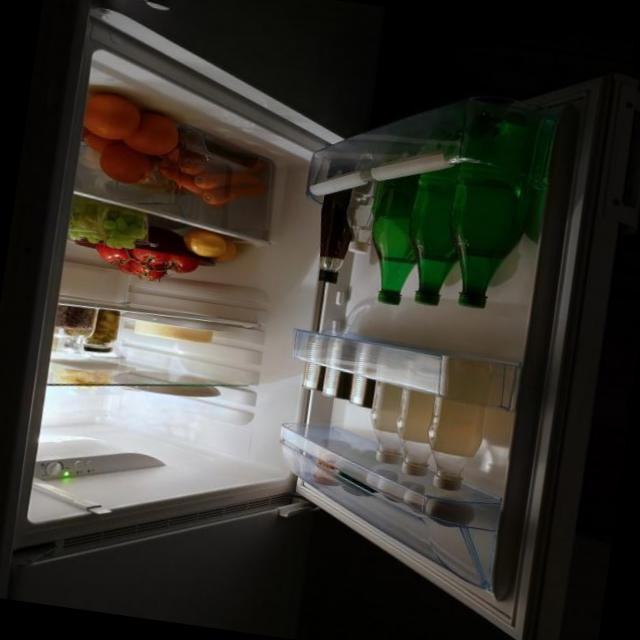Huevos: (364, 466, 483, 541)
Limón: (178, 226, 239, 262)
Queso: (129, 314, 218, 351)
Tomate: (88, 231, 206, 294)
Zanahoria: (148, 132, 286, 227)
